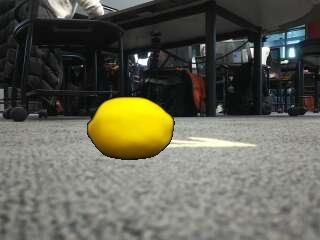lemon: (88, 97, 172, 160)
